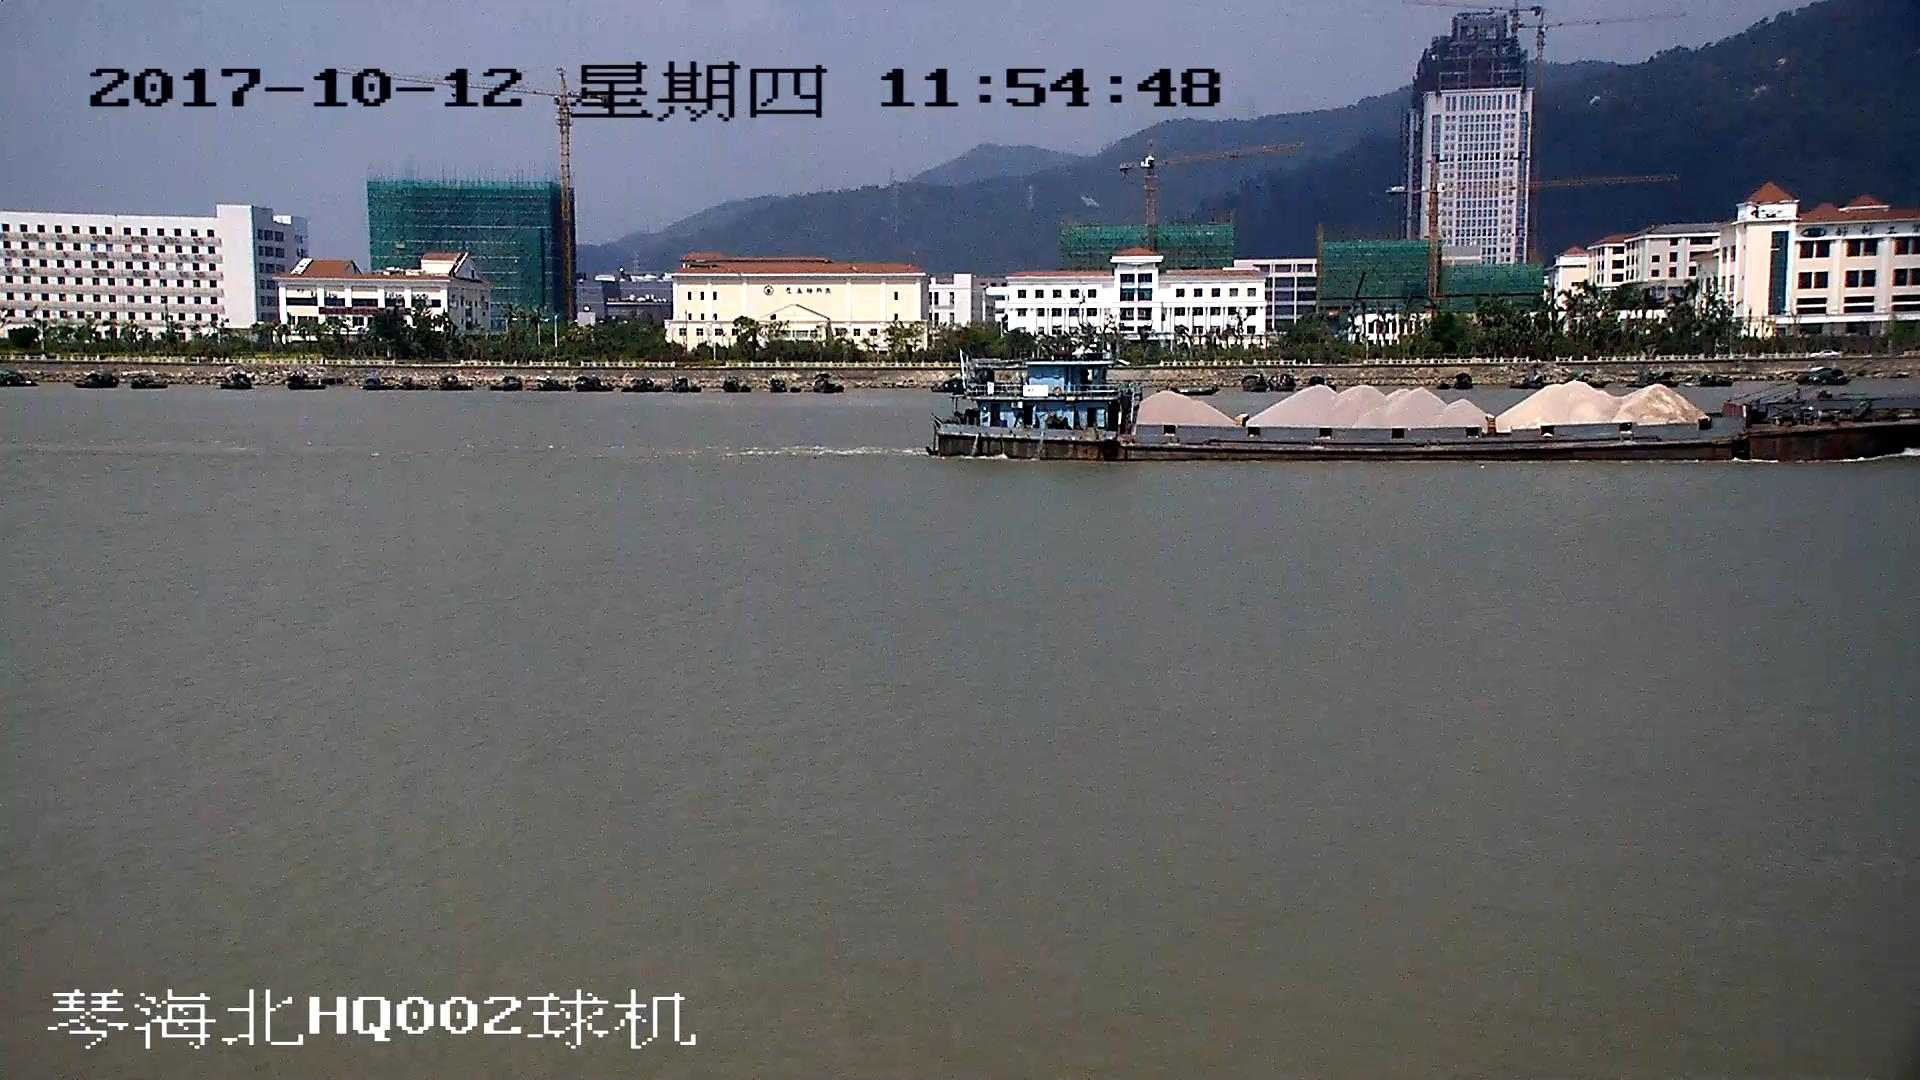ore carrier: (931, 351, 1920, 462)
